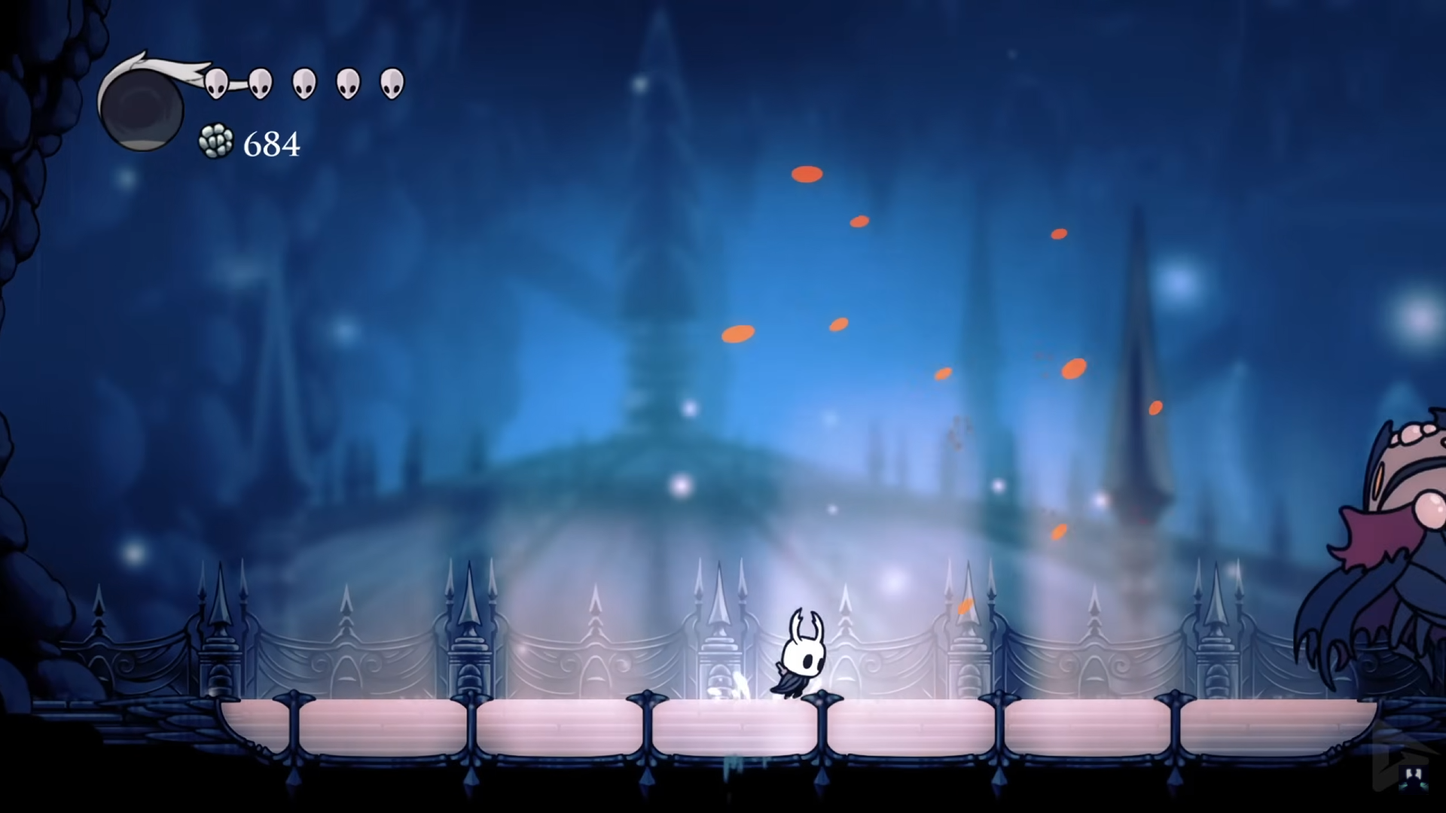HK: (766, 607, 839, 713)
